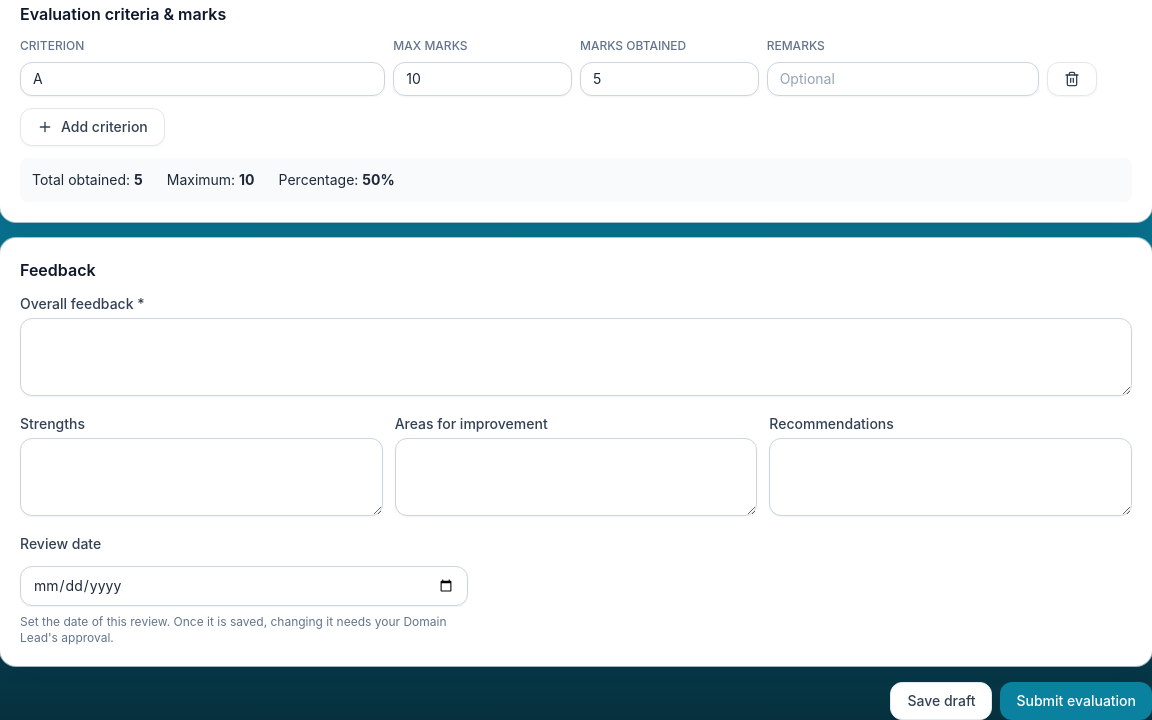
Test: review editor › shows server validation errors against the right rows
The width and height of the screenshot is (1152, 720).
(page scrolled)
Click the button "Submit evaluation" at (1076, 701), box [1000,682,1151,719]
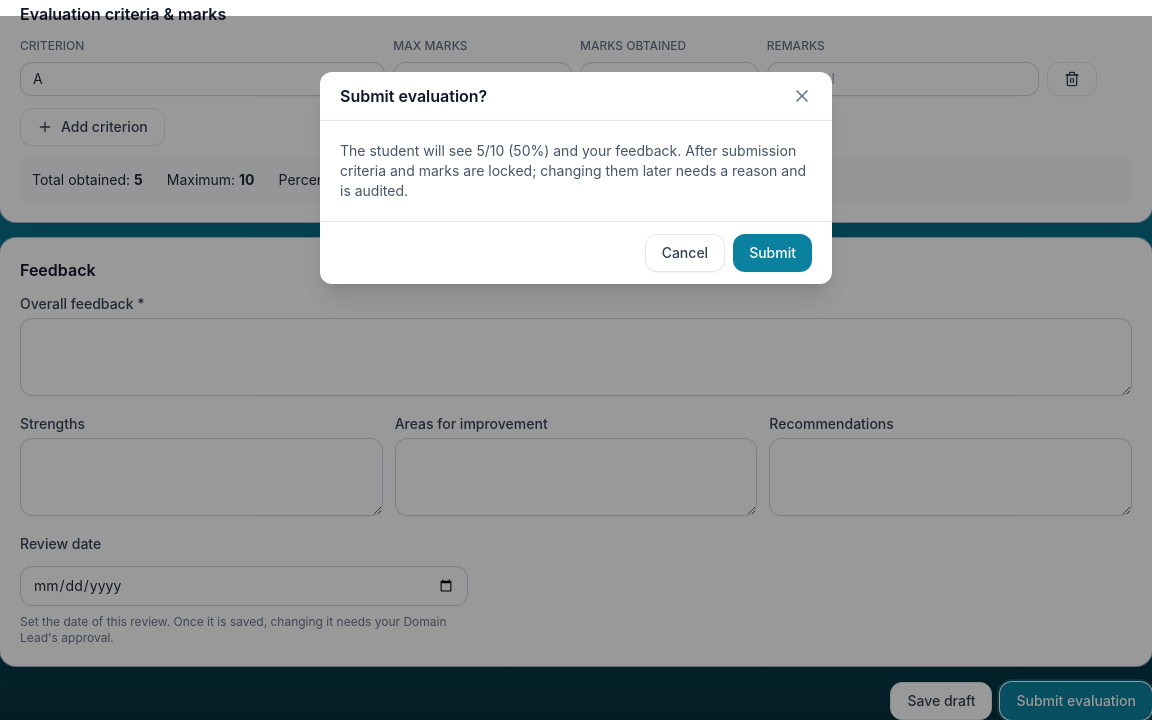
Click the button "Submit" at (773, 253), box [733,234,812,272]
(page scrolled)
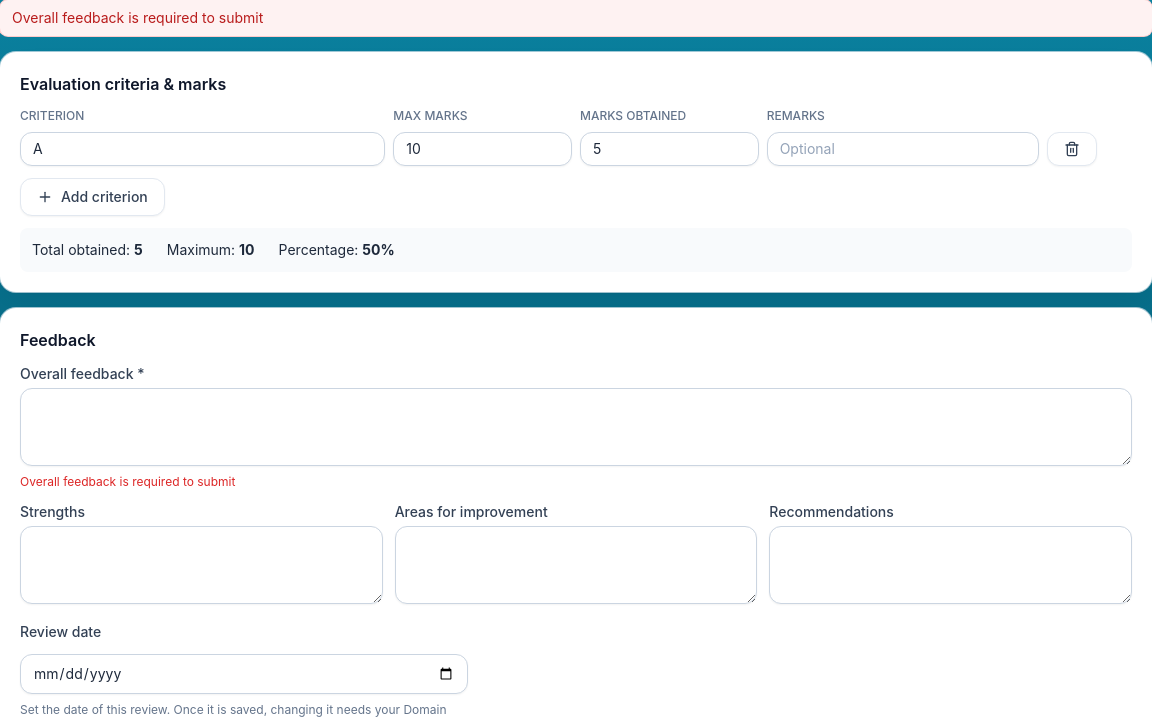
Check: the text "Overall feedback is required to submit" is shown, box [0,0,1151,36]
